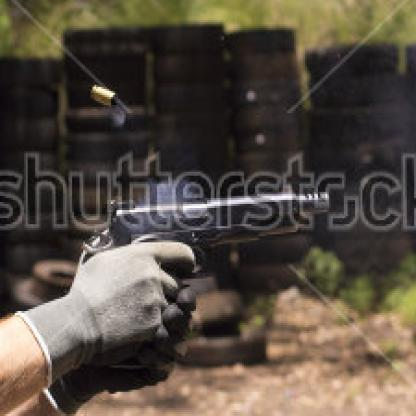gun: (55, 170, 344, 364)
